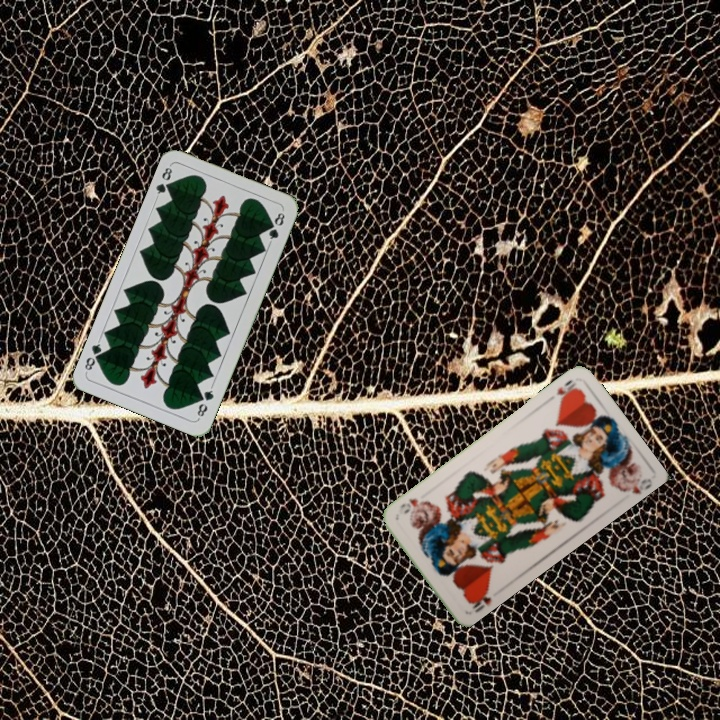G8: (152, 161, 176, 200), (193, 382, 216, 421)
HO: (465, 584, 494, 615), (552, 375, 580, 404)
